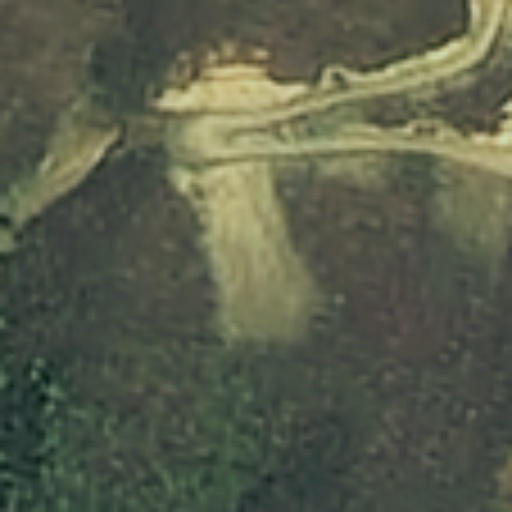landslide: (194, 162, 324, 345)
